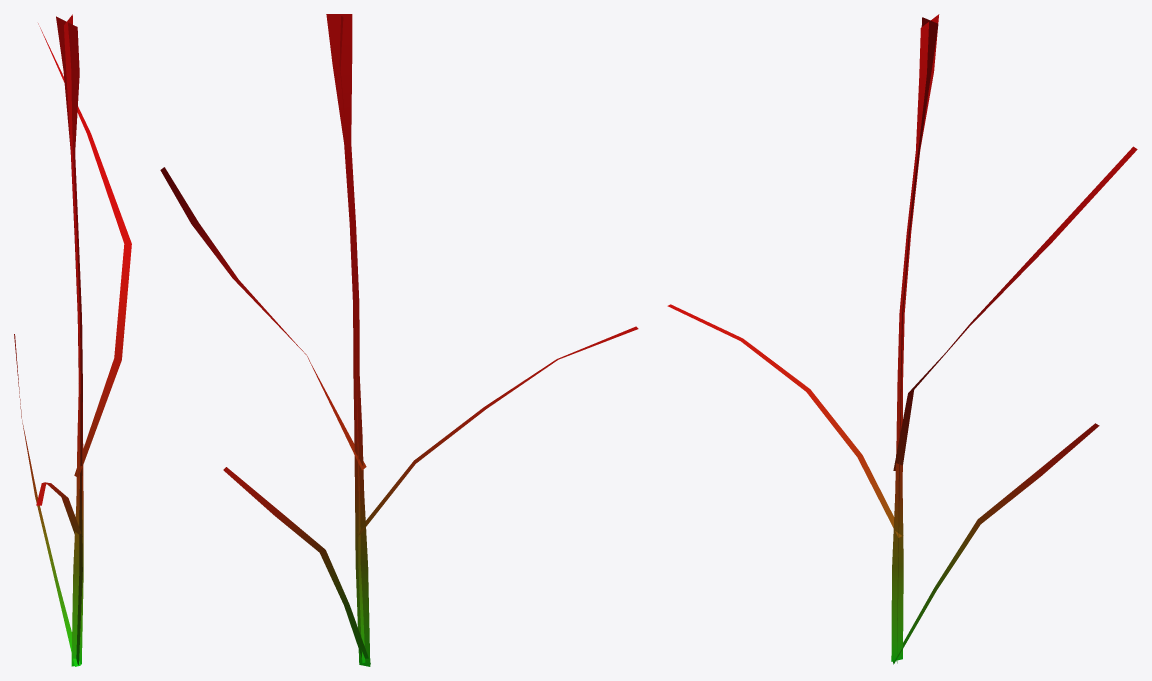
The model's file is Tundra Grass_LOD2_Var15_wk2oaeyqx.fbx.
3 views of the same model, side by side, from view 1: azimuth 30°, elevation 25°; view 2: azimuth 150°, elevation 25°; view 3: azimuth 270°, elevation 25° (orthographic). The views are drawn at different scales.
Visible parts, largest first — view 1: _72hq_Var15_LOD2; view 2: _72hq_Var15_LOD2; view 3: _72hq_Var15_LOD2.
Part boxes in pixels (x1=…): _72hq_Var15_LOD2: x1=14, y1=14, x2=131, y2=666; _72hq_Var15_LOD2: x1=160, y1=14, x2=638, y2=666; _72hq_Var15_LOD2: x1=667, y1=14, x2=1137, y2=664.
Size of the model in its own units: 10.28 by 25.8 by 16.92.
